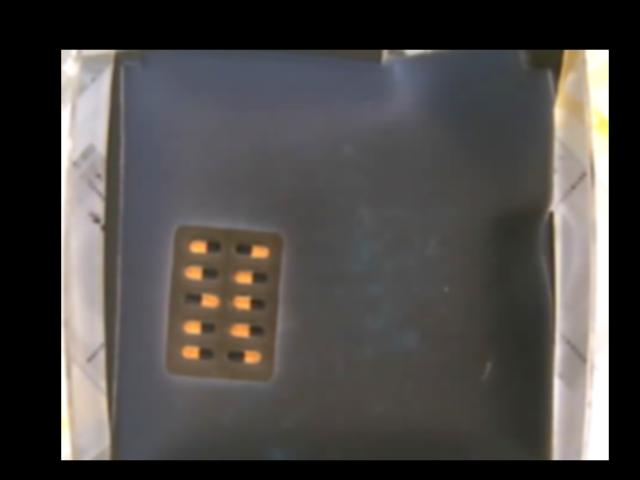Medicine: (164, 223, 281, 380)
